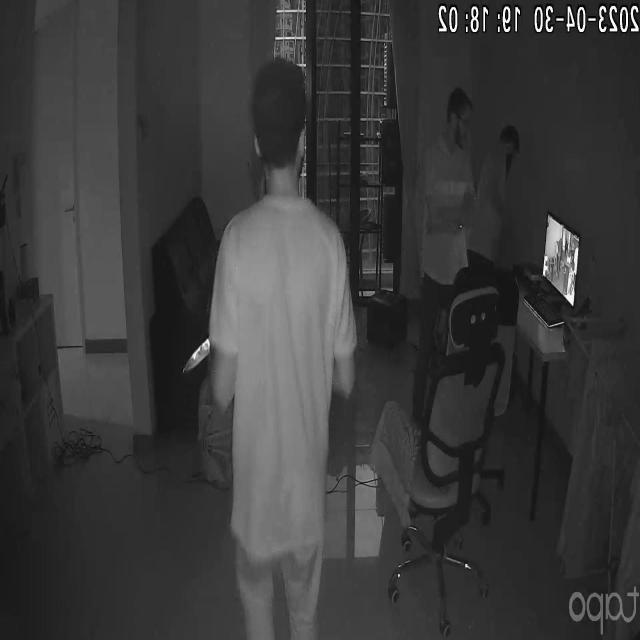Knife: (173, 322, 229, 373)
